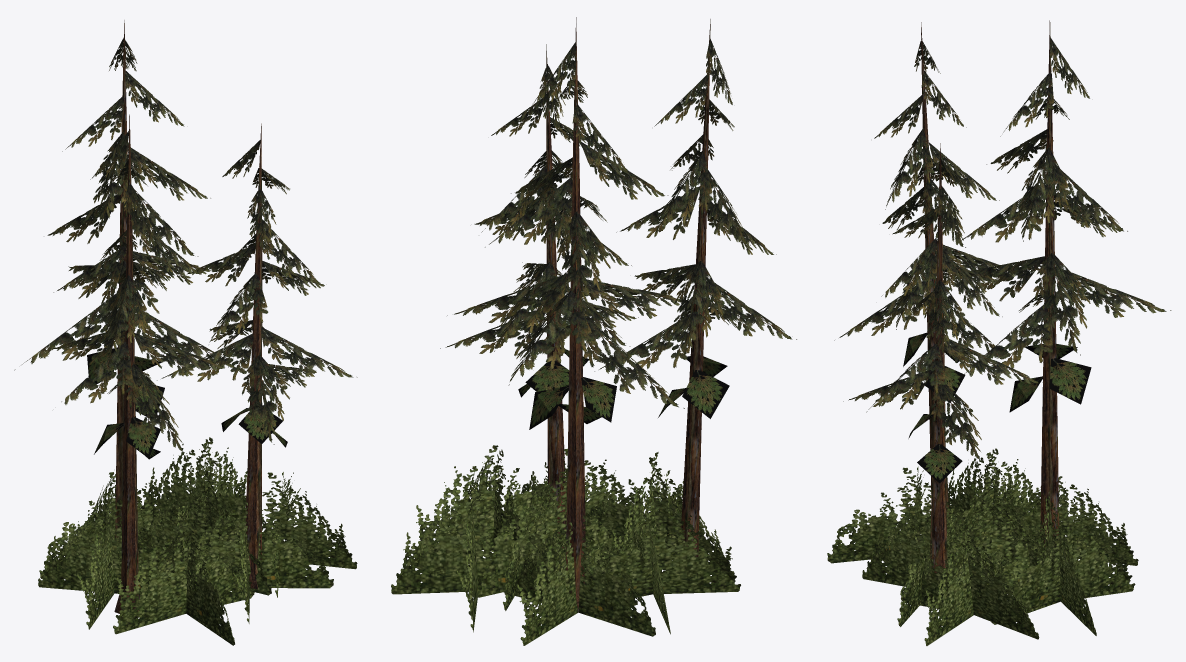
The model's file is sm_fir_scabg.obj.
3 views of the same model, side by side, from view 1: azimuth 30°, elevation 25°; view 2: azimuth 150°, elevation 25°; view 3: azimuth 270°, elevation 25° (orthographic). The views are drawn at different scales.
Visible parts, largest first — view 1: sm_fir_scabg; view 2: sm_fir_scabg; view 3: sm_fir_scabg.
Boxes of the visible parts, left/top/right/bottom form: sm_fir_scabg: left=14, top=20, right=357, bottom=645; sm_fir_scabg: left=391, top=17, right=796, bottom=645; sm_fir_scabg: left=827, top=20, right=1171, bottom=645.
Size of the model in its own units: 14.3 by 23.95 by 13.61.
4 materials, 4 textured.
